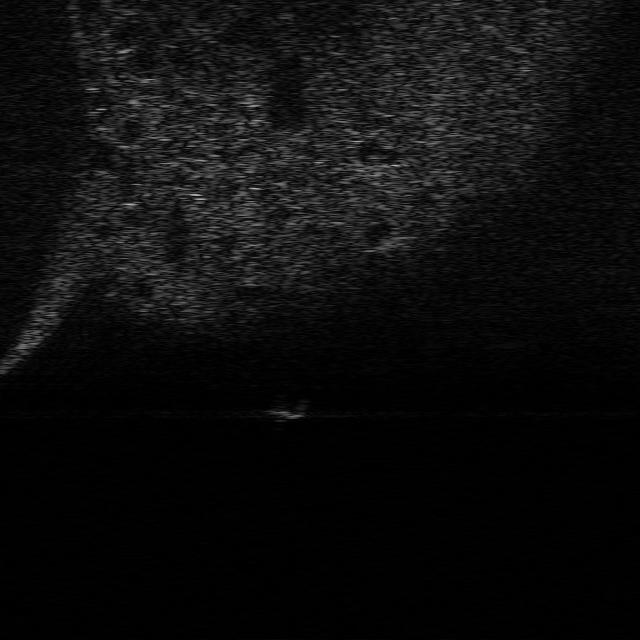cube: (271, 396, 311, 420)
